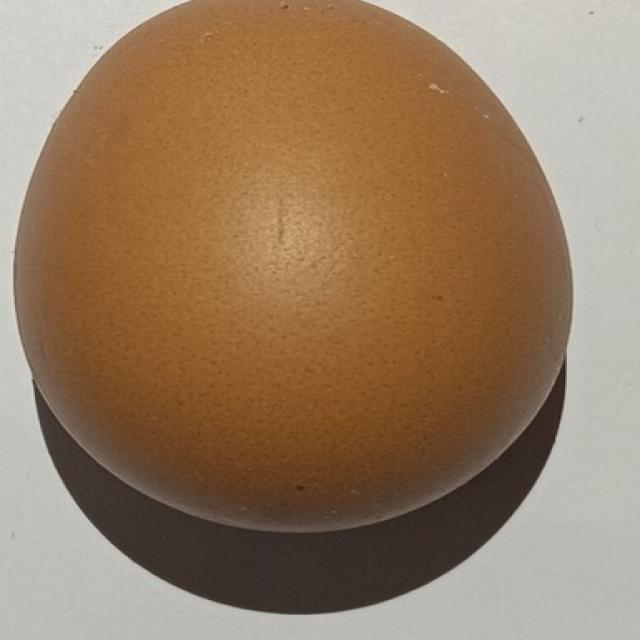fresh: (0, 0, 583, 537)
